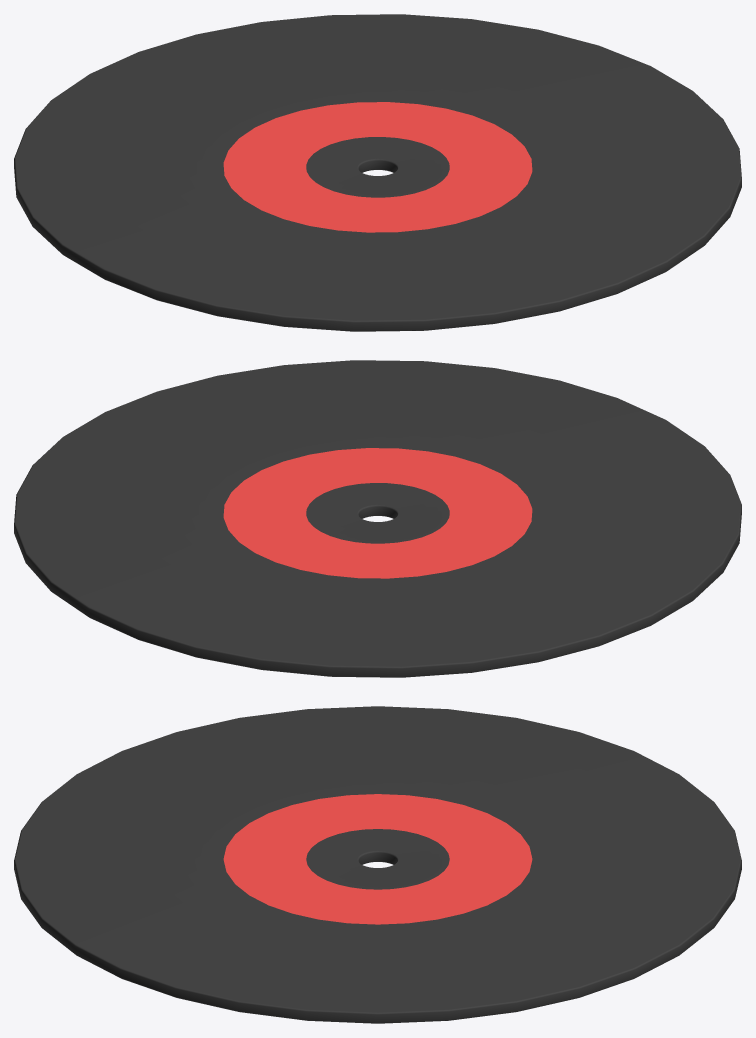
Rendered from Store_13_Vinyl_2.glb.
3 views of the same model, one above another, from view 1: azimuth 30°, elevation 25°; view 2: azimuth 150°, elevation 25°; view 3: azimuth 270°, elevation 25° (orthographic).
Visible parts, largest first — view 1: Store_13_Vinyl_2; view 2: Store_13_Vinyl_2; view 3: Store_13_Vinyl_2.
Part boxes in pixels (<box>): Store_13_Vinyl_2: <box>14,14,741,331</box>; Store_13_Vinyl_2: <box>14,360,741,677</box>; Store_13_Vinyl_2: <box>14,706,741,1023</box>.
Size of the model in its own units: 0.413 by 0.00711 by 0.413.
1 material, 1 textured.
